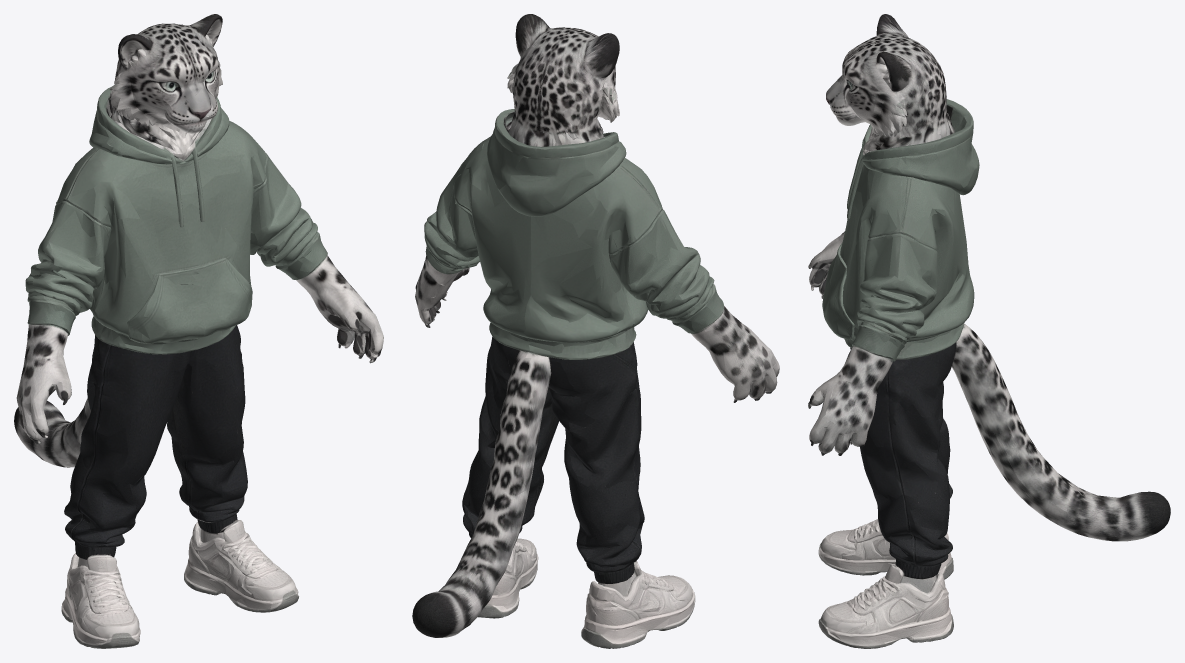
File: barsbek_mesh.glb
3 views of the same model, side by side, from view 1: azimuth 30°, elevation 25°; view 2: azimuth 150°, elevation 25°; view 3: azimuth 270°, elevation 25° (orthographic). The views are drawn at different scales.
Size of the model in its own units: 1.21 by 1.9 by 1.1.
1 material, 1 textured.
